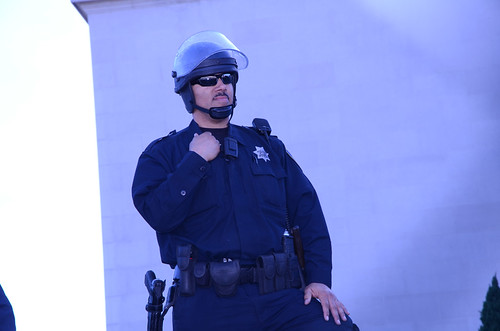policeman: (133, 26, 358, 331)
